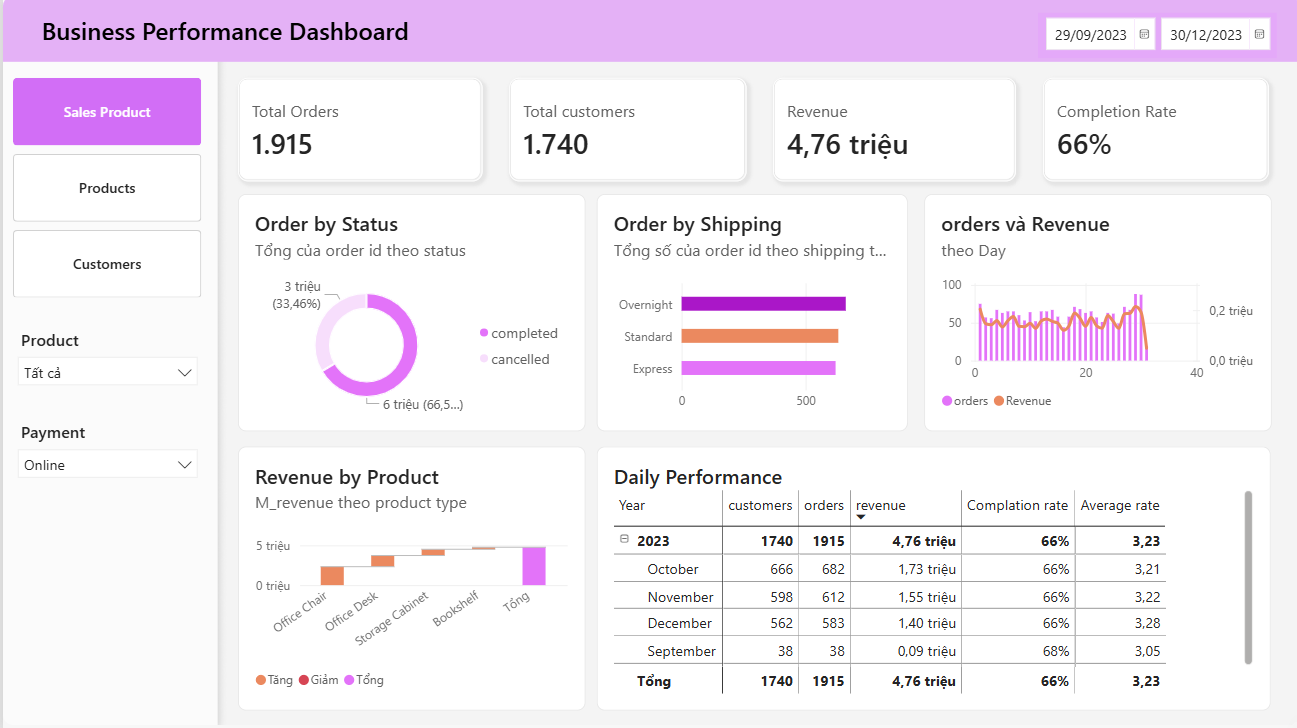

The dashboard page shown, as its layout file describes it:
{"tool":"powerbi","page":{"name":"Sales Product","canvas":[1280,720],"ordinal":0},"visuals":[{"type":"textbox","title":"Business Performance Dashboard ","box":[25.7,14.3,387.1,54.3],"z":0},{"type":"cardVisual","fields":{"Data":["CountNonNull(orders.order id)"]},"box":[231.6,77.2,241.3,102.5],"z":1000},{"type":"cardVisual","fields":{"Data":["Count(orders.customer id)"]},"box":[500,77.8,234.4,102.2],"z":2000},{"type":"cardVisual","fields":{"Data":["*Measure table.M_revenue"]},"box":[761.1,77.8,240,102.2],"z":3000},{"type":"cardVisual","fields":{"Data":["*Measure table.M_Completion Rate"]},"box":[1027.8,77.8,223.3,102.2],"z":4000},{"type":"donutChart","title":"Order by Status","fields":{"Category":["orders.status"],"Y":["Sum(orders.order id)"]},"box":[231.9,193.1,343.1,234.7],"z":5000},{"type":"lineClusteredColumnComboChart","fields":{"Category":["orders.order date.Variation.Date Hierarchy.Year","orders.order date.Variation.Date Hierarchy.Quarter","orders.order date.Variation.Date Hierarchy.Month","orders.order date.Variation.Date Hierarchy.Day"],"Y":["CountNonNull(orders.order id)"],"Y2":["*Measure table.M_revenue"]},"box":[909.7,193.1,343.1,234.7],"z":6000},{"type":"clusteredBarChart","title":"Order by Shipping","fields":{"Category":["shipping.shipping type"],"Y":["CountNonNull(orders.order id)"]},"box":[586.1,193.1,306.9,234.7],"z":7000},{"type":"waterfallChart","title":"Revenue by Product","fields":{"Category":["product.product type"],"Y":["*Measure table.M_revenue"]},"box":[231.9,441.7,343.1,261.1],"z":8000},{"type":"pivotTable","title":"Daily Performance","fields":{"Rows":["orders.order date.Variation.Date Hierarchy.Year","orders.order date.Variation.Date Hierarchy.Month"],"Values":["Count(orders.customer id)","CountNonNull(orders.order id)","*Measure table.M_revenue","*Measure table.M_Completion Rate","Avg(orders.feedback)"]},"box":[586.1,441.7,665.3,261.1],"z":9000},{"type":"pageNavigator","box":[9.7,77.2,187,217.2],"z":10000},{"type":"slicer","fields":{"Values":["product.product type"]},"box":[10,325,187.5,71.2],"z":11000},{"type":"slicer","fields":{"Values":["payment.payment type"]},"box":[10,416.2,187.5,71.2],"z":12000},{"type":"slicer","fields":{"Values":["orders.order date"]},"box":[1022.5,13.8,236.2,45],"z":13000}]}

Visuals, with their boxes in screenshot pixels (x1, y1, x2, y2), scaled from the page's 1280x720 canvas onto the 1297x728 screenshot:
"Business Performance Dashboard " textbox: <bbox>26, 14, 418, 69</bbox>
cardVisual - CountNonNull(orders.order id): <bbox>235, 78, 479, 182</bbox>
cardVisual - Count(orders.customer id): <bbox>507, 79, 744, 182</bbox>
cardVisual - *Measure table.M_revenue: <bbox>771, 79, 1014, 182</bbox>
cardVisual - *Measure table.M_Completion Rate: <bbox>1041, 79, 1268, 182</bbox>
"Order by Status" donutChart: <bbox>235, 195, 583, 433</bbox>
lineClusteredColumnComboChart - orders.order date.Variation.Date Hierarchy.Year x orders.order date.Variation.Date Hierarchy.Quarter: <bbox>922, 195, 1269, 433</bbox>
"Order by Shipping" clusteredBarChart: <bbox>594, 195, 905, 433</bbox>
"Revenue by Product" waterfallChart: <bbox>235, 447, 583, 711</bbox>
"Daily Performance" pivotTable: <bbox>594, 447, 1268, 711</bbox>
pageNavigator: <bbox>10, 78, 199, 298</bbox>
slicer - product.product type: <bbox>10, 329, 200, 401</bbox>
slicer - payment.payment type: <bbox>10, 421, 200, 493</bbox>
slicer - orders.order date: <bbox>1036, 14, 1275, 59</bbox>
